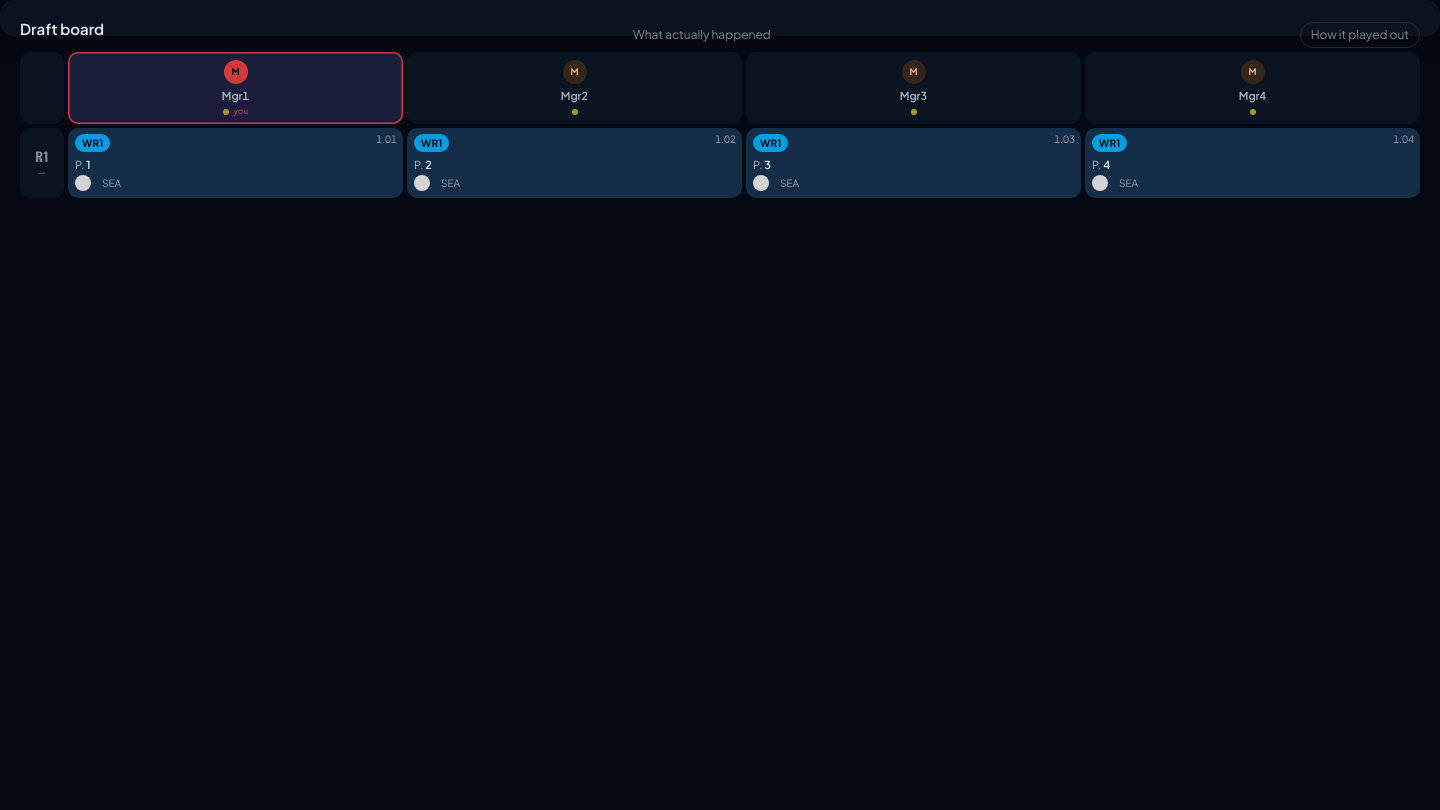
Scenario: CompletedDraftBoard steals & busts panel › falls back to PickGrade.playerName and prints unknown for a null value
Click the button "How it played out".
click(1360, 35)  # box [1300,22,1420,48]
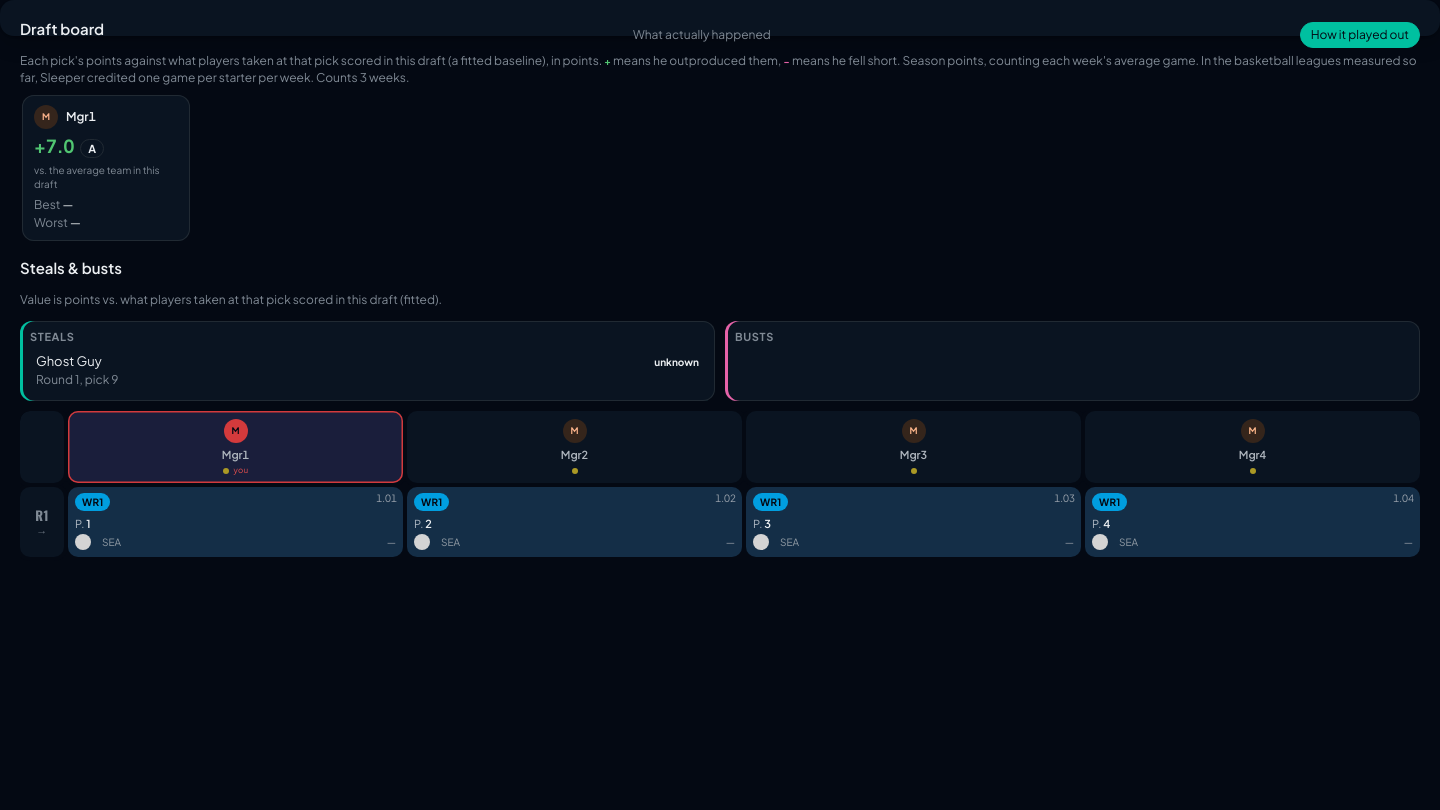
Expected: the heading "Steals & busts" is shown, [20,258,122,277]
Expected: the element with class "sb-steals" shows "Ghost Guy", [36,354,102,370]
Expected: the element with class "sb-steals" shows "unknown", [654,356,699,368]
